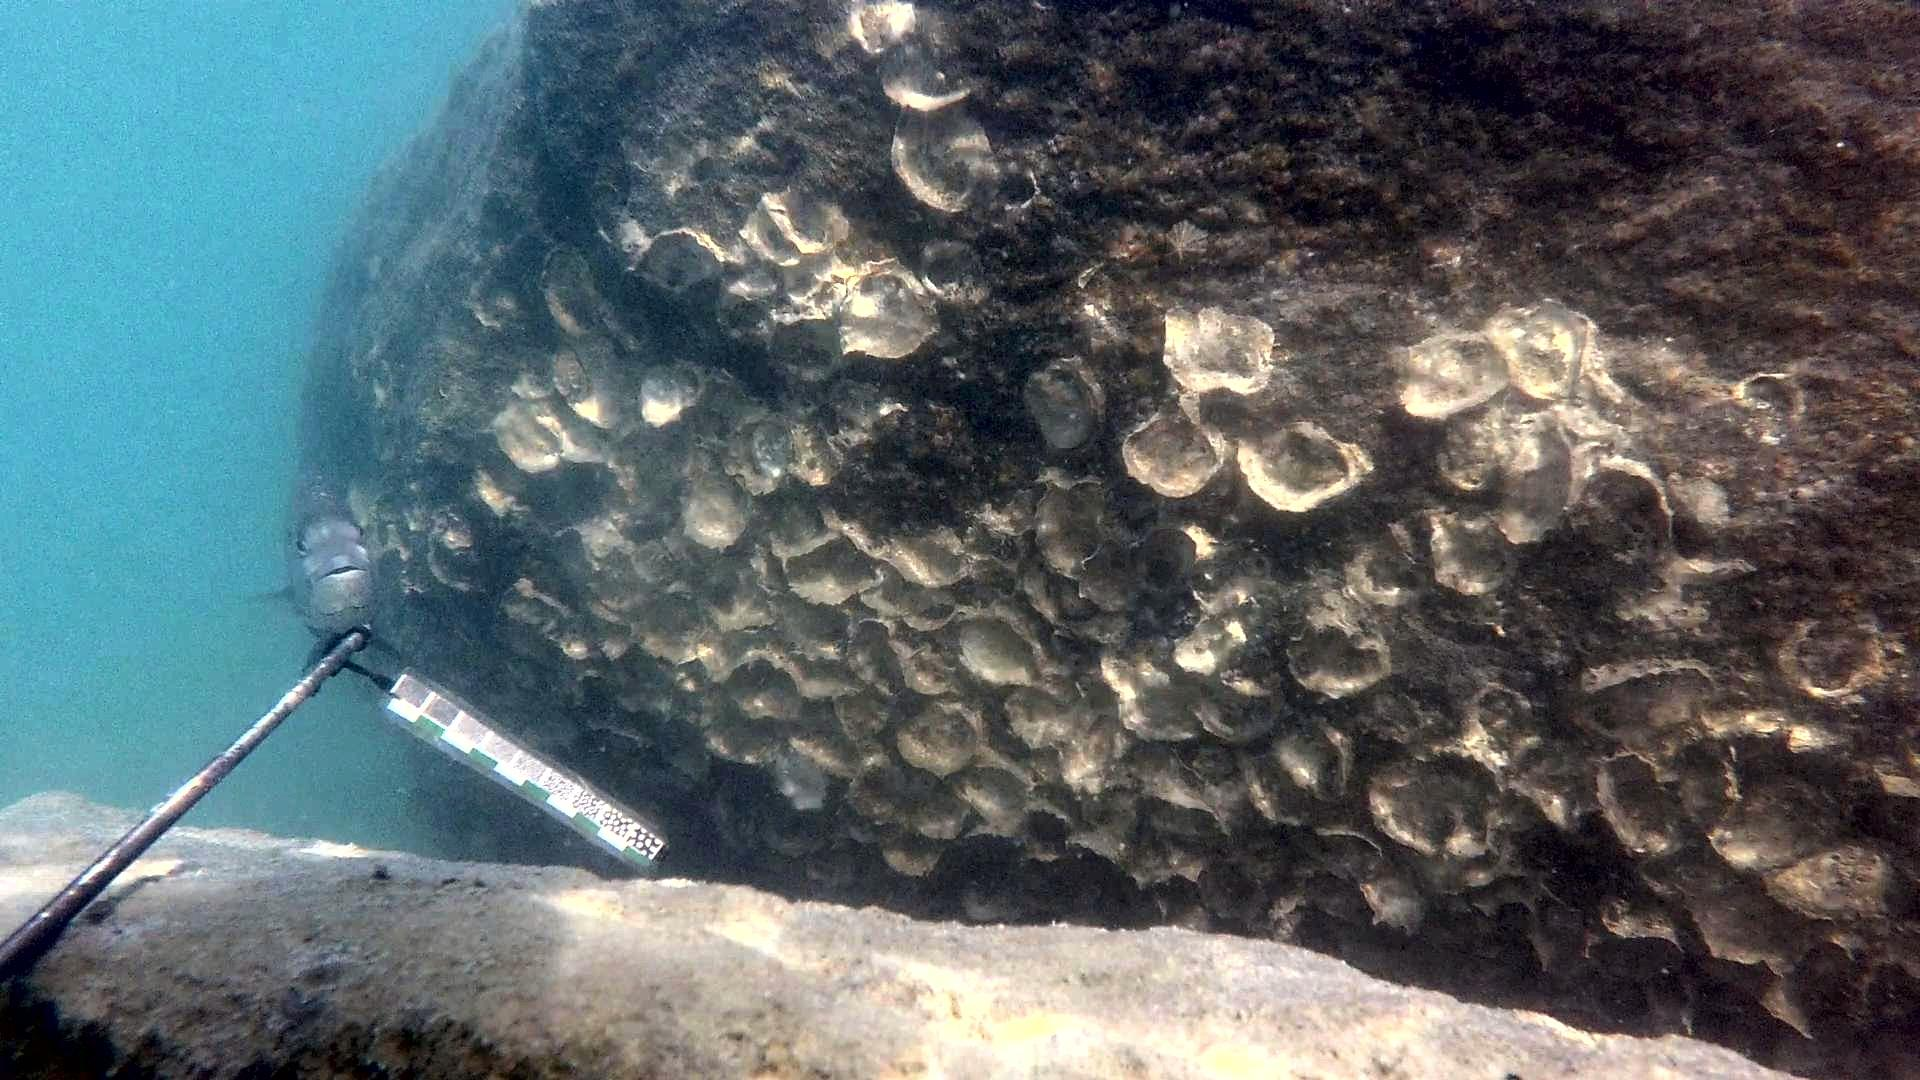acanthopagrus palmaris: (233, 458, 419, 677)
